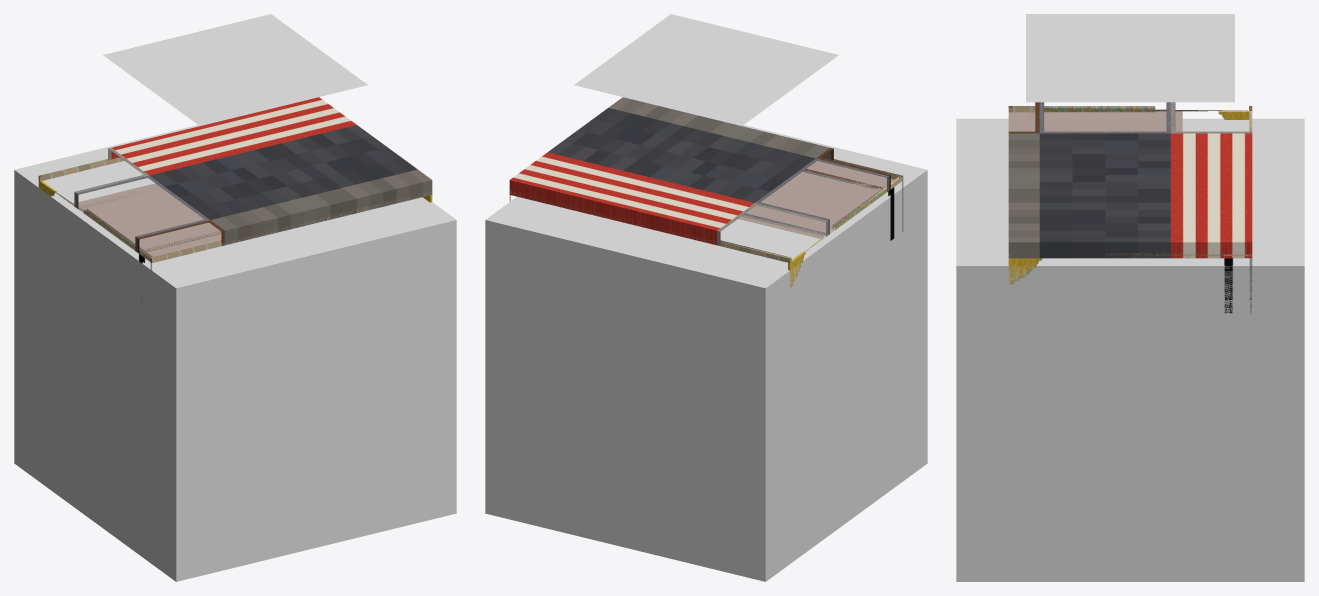
File: albany_courthouse.glb
3 renders of one model, left to right at view 1: azimuth 30°, elevation 25°; view 2: azimuth 150°, elevation 25°; view 3: azimuth 270°, elevation 25°, orthographic. The views are drawn at different scales.
Visible parts, largest first — view 1: Cube, albany_courthouse_roof_xb, albany_courthouse__clocks_clock_xb, albany_courthouse__portico_xb, albany_courthouse__cornice_0_xb, albany_courthouse__cornice_3_xb; view 2: Cube, albany_courthouse_roof_xb, albany_courthouse__clocks_clock_xb, albany_courthouse__portico_xb, albany_courthouse__cornice_2_xb, albany_courthouse__cornice_3_xb; view 3: Cube, albany_courthouse_roof_xb, albany_courthouse__clocks_clock_xb, albany_courthouse__portico_xb, albany_courthouse__cornice_3_xb, albany_courthouse__wall_1_xb, albany_courthouse__cornice_1_xb.
Boxes of the visible parts, x1=… form: Cube: x1=14, y1=125, x2=456, y2=581; albany_courthouse_roof_xb: x1=74, y1=97, x2=432, y2=253; albany_courthouse__clocks_clock_xb: x1=103, y1=14, x2=367, y2=125; albany_courthouse__portico_xb: x1=71, y1=183, x2=221, y2=256; albany_courthouse__cornice_0_xb: x1=150, y1=191, x2=431, y2=262; albany_courthouse__cornice_3_xb: x1=39, y1=175, x2=154, y2=262; Cube: x1=485, y1=125, x2=927, y2=581; albany_courthouse_roof_xb: x1=509, y1=97, x2=890, y2=245; albany_courthouse__clocks_clock_xb: x1=574, y1=14, x2=838, y2=125; albany_courthouse__portico_xb: x1=738, y1=161, x2=893, y2=239; albany_courthouse__cornice_2_xb: x1=510, y1=191, x2=791, y2=262; albany_courthouse__cornice_3_xb: x1=788, y1=175, x2=903, y2=262; Cube: x1=956, y1=118, x2=1304, y2=581; albany_courthouse_roof_xb: x1=1008, y1=102, x2=1252, y2=258; albany_courthouse__clocks_clock_xb: x1=1026, y1=14, x2=1234, y2=102; albany_courthouse__portico_xb: x1=1008, y1=111, x2=1182, y2=131; albany_courthouse__cornice_3_xb: x1=1008, y1=106, x2=1247, y2=112; albany_courthouse__wall_1_xb: x1=1008, y1=258, x2=1232, y2=313; albany_courthouse__cornice_1_xb: x1=1106, y1=253, x2=1251, y2=258.
Bounding box in the file's own units: 2 × 2.85 × 2.
3 materials, 2 textured.
